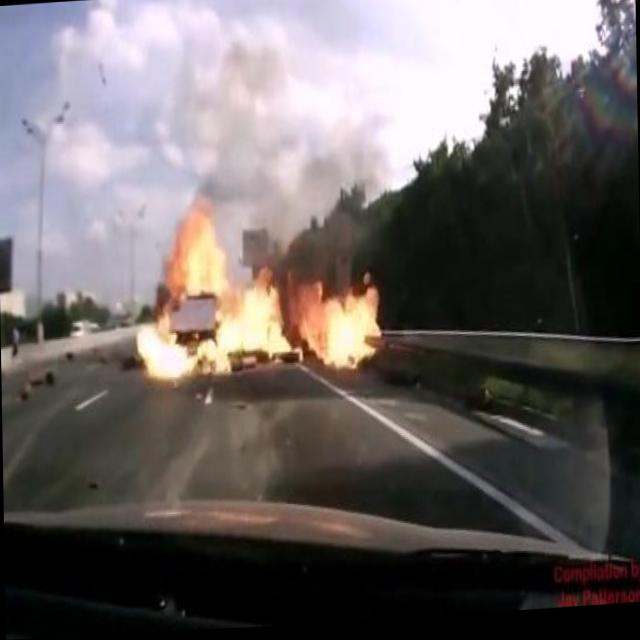fire: (132, 179, 385, 394)
